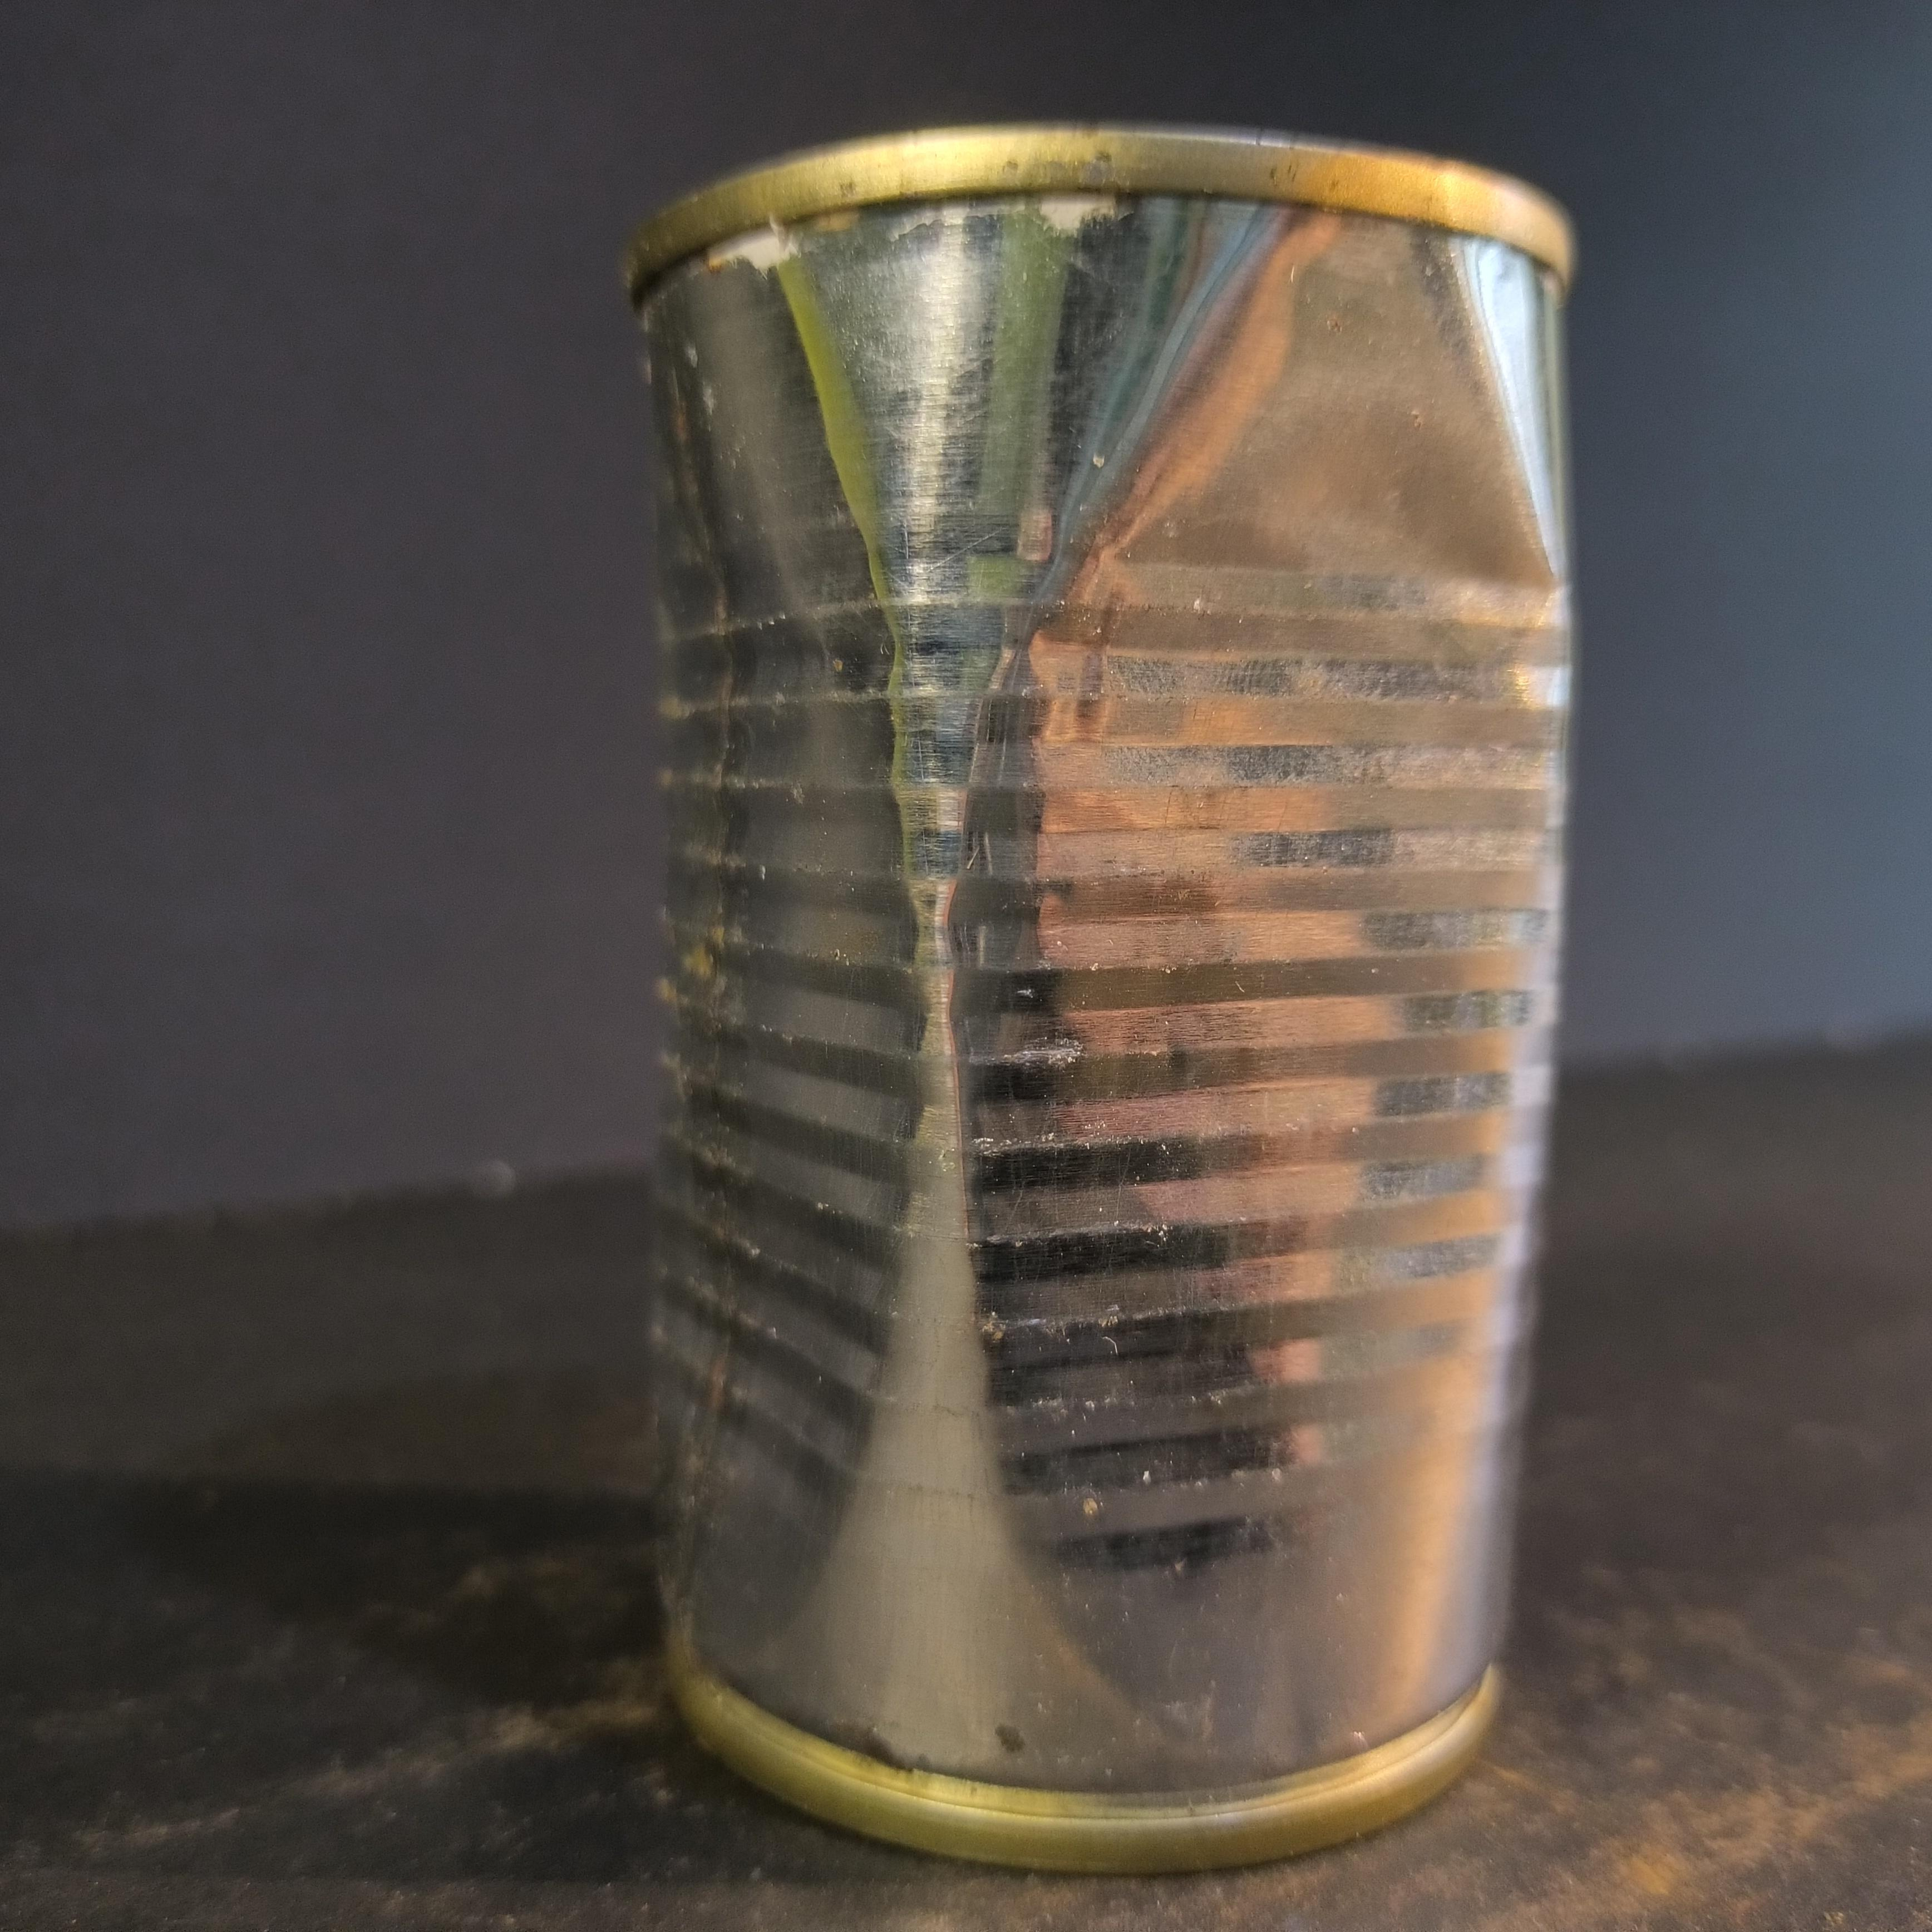Dented: (587, 86, 1628, 1872)
